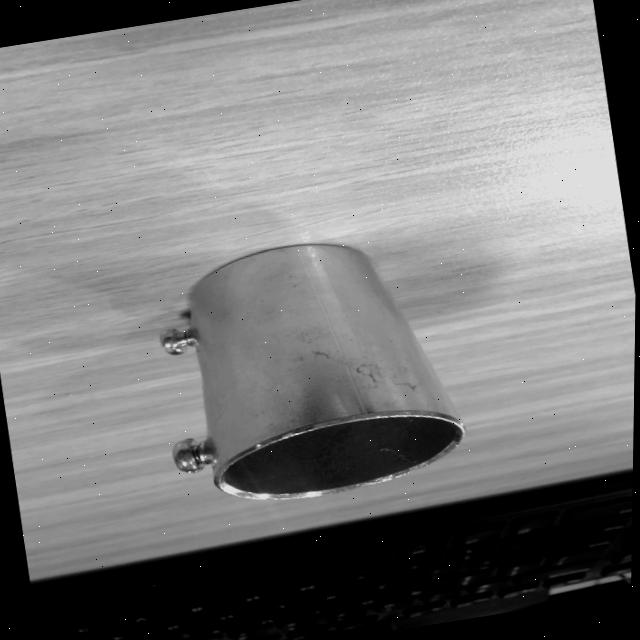Co_Nho: (128, 213, 472, 530)
